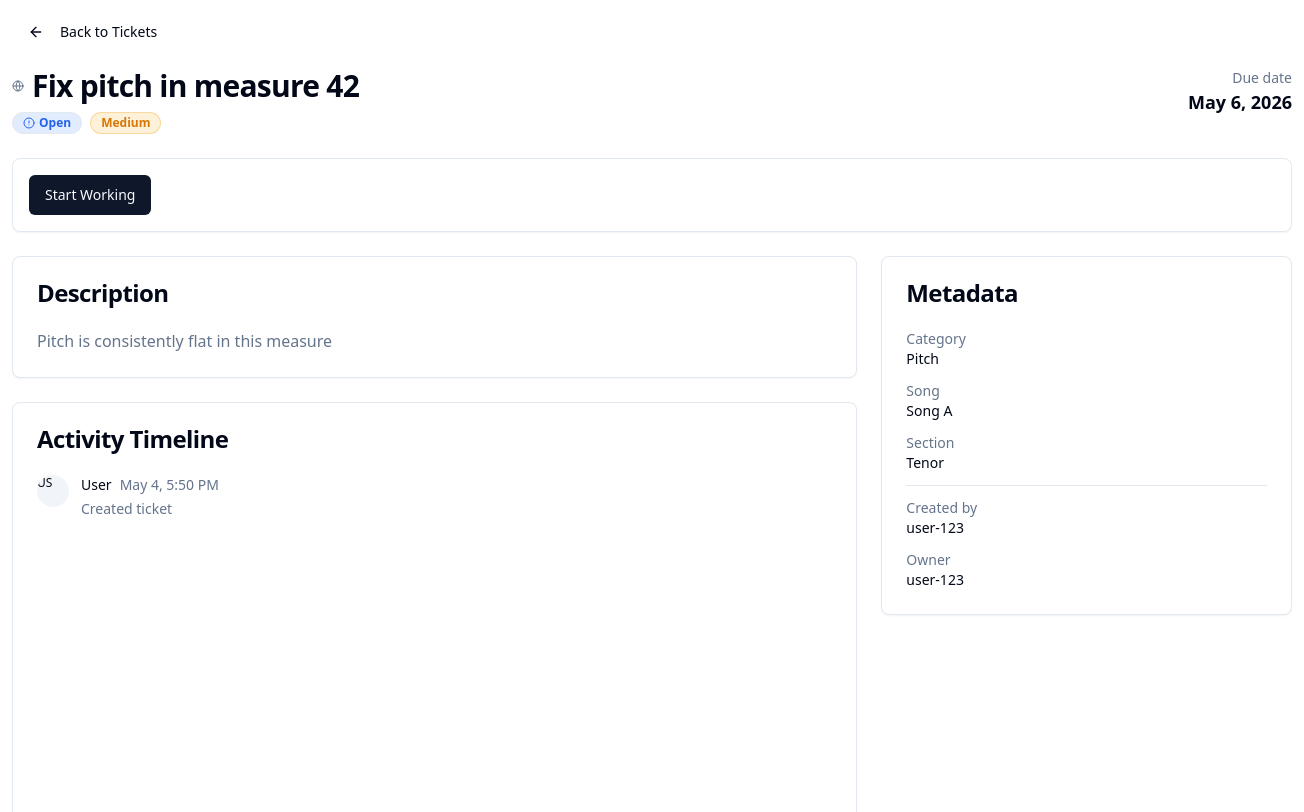
Scenario: TicketDetailPage › Happy Path - Full Lifecycle › transitions from OPEN to IN_PROGRESS
Step 1. Click the button "Start Working" → [90, 195], box [29,175,151,215]
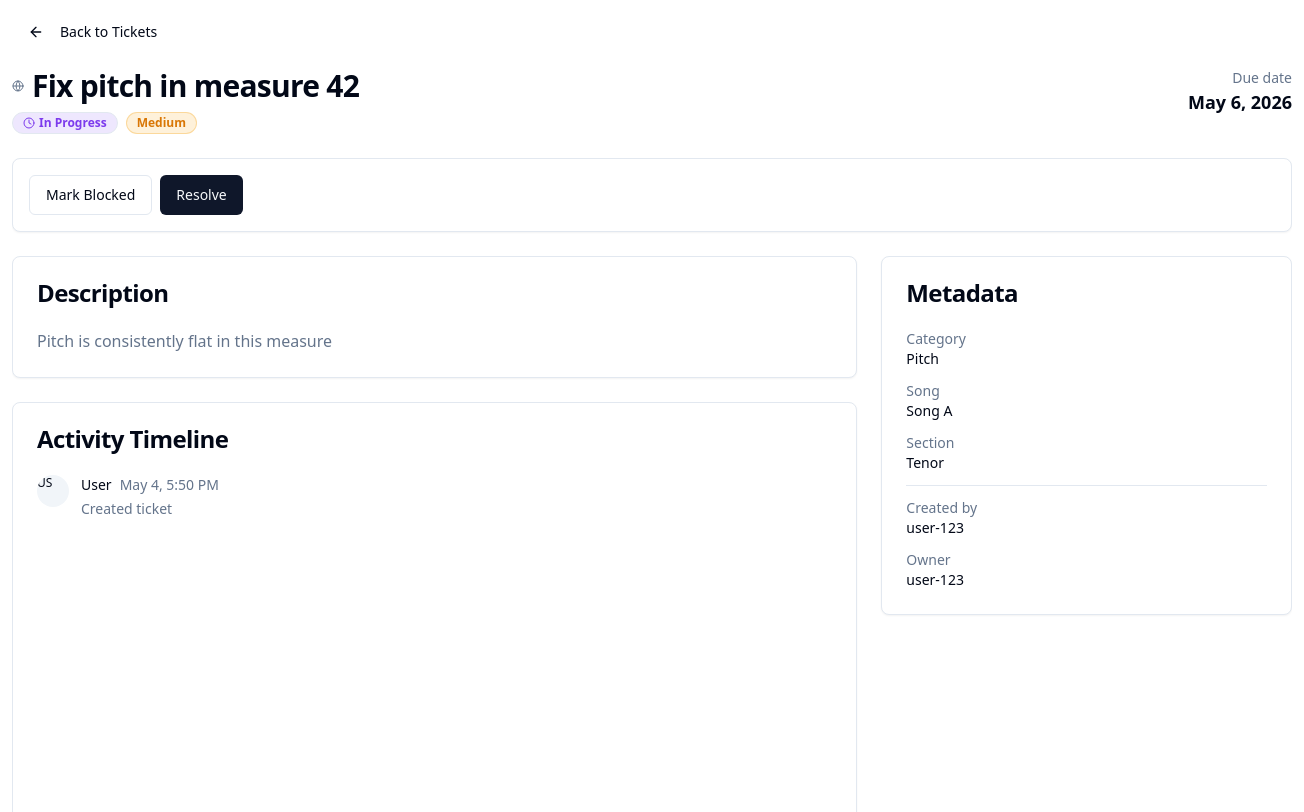
Check: the button "Start Working" is gone
